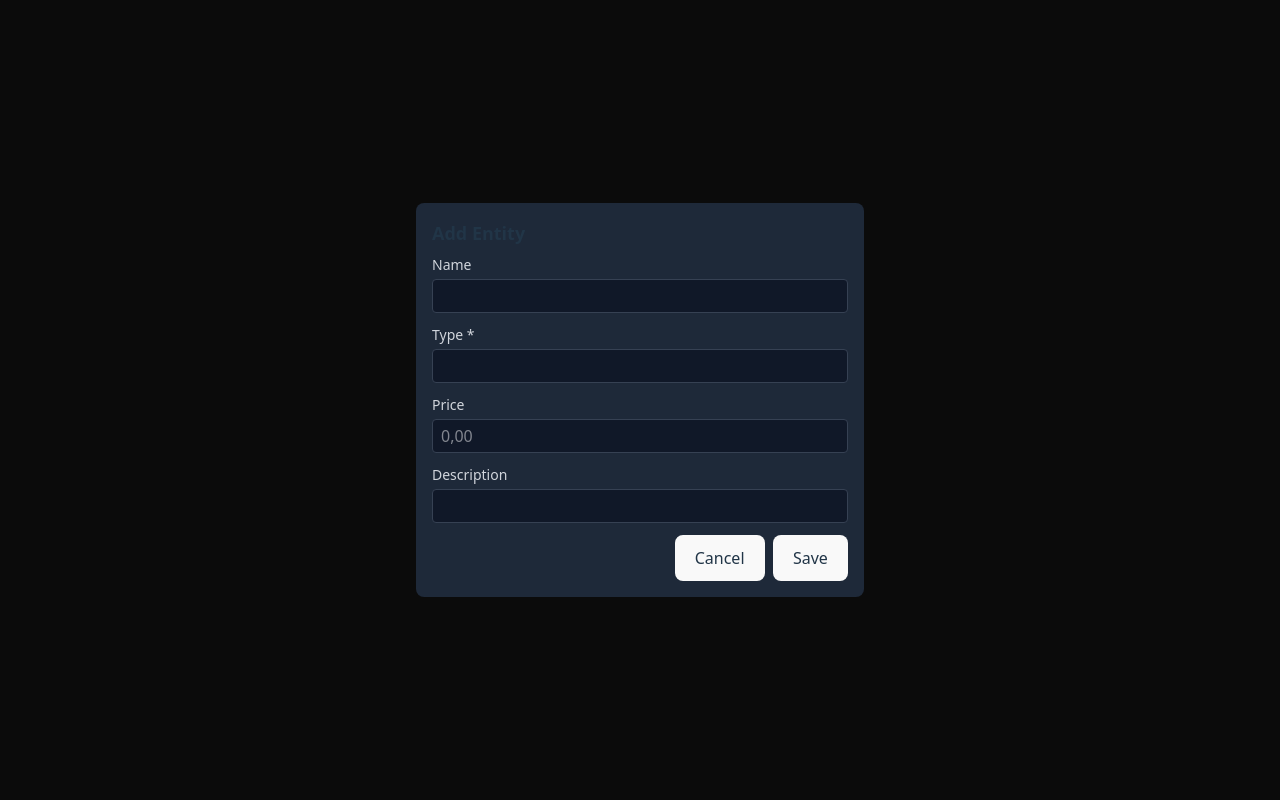
Test: AddPopup › shows API error when createEntity fails
In the field labelled "Type *": coordinates (640, 366) [432,349,848,383], type "widget"
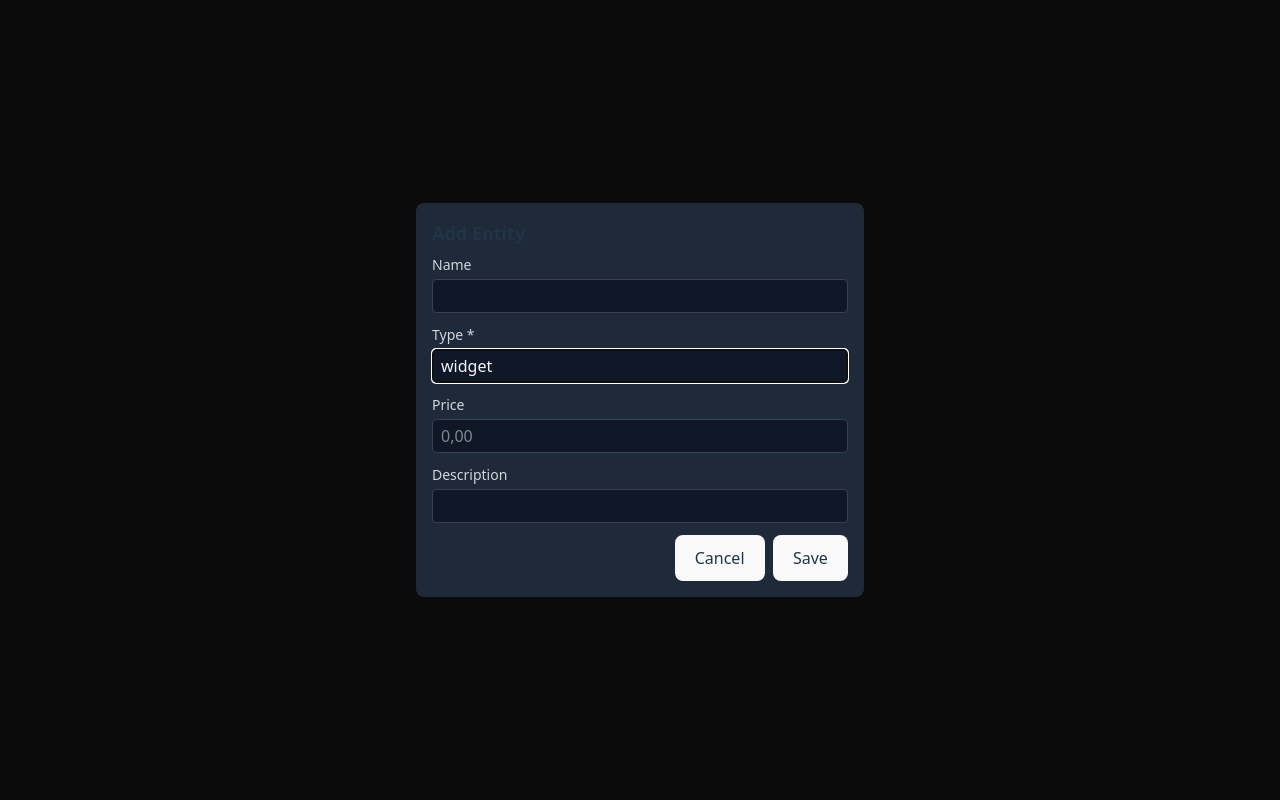
Click the button "Save": coordinates (810, 558) [773,535,848,581]
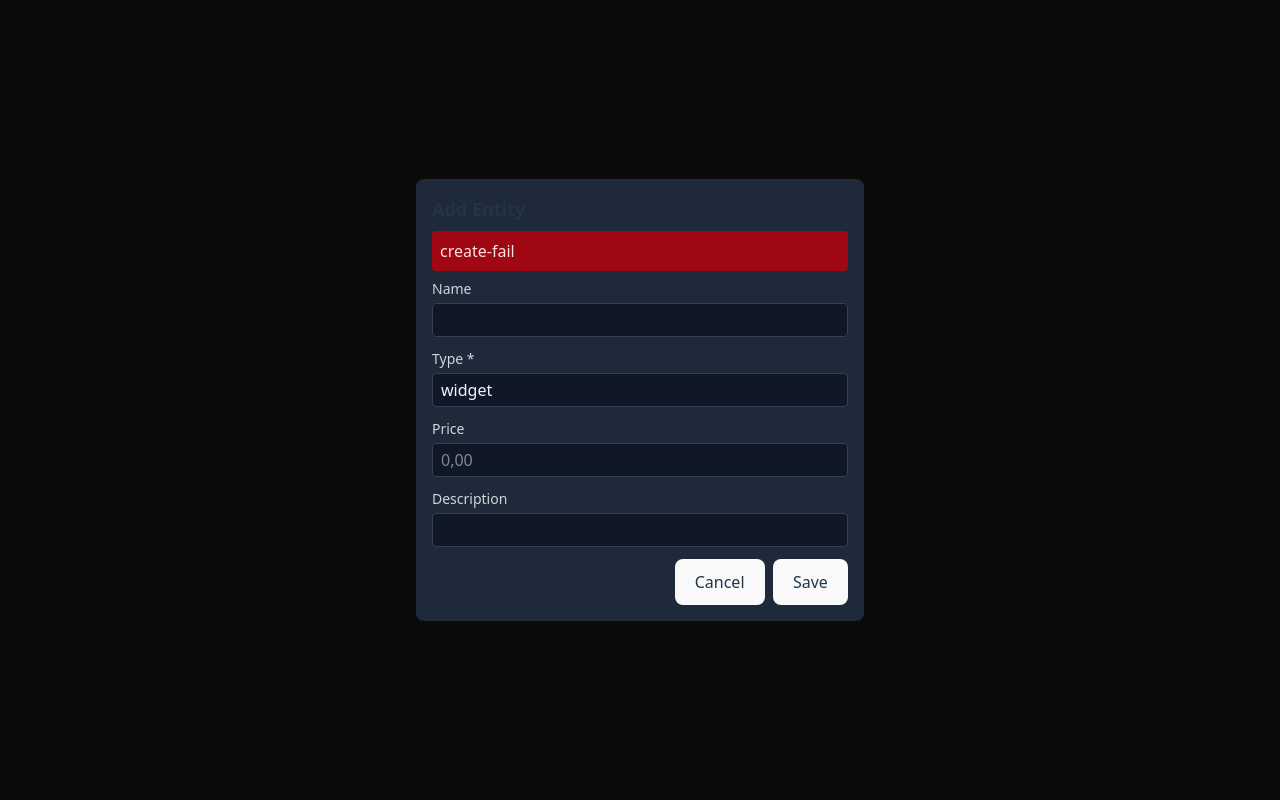
Expected: the text "create-fail" is shown, [432,231,848,271]
